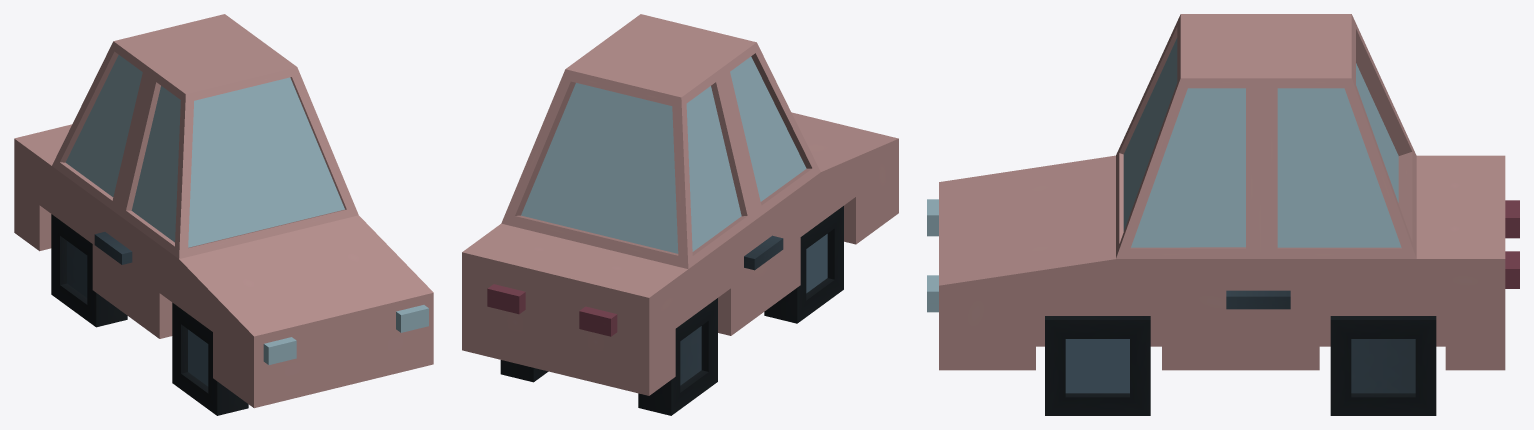
Rendered from Car_1.fbx.
3 views of the same model, side by side, from view 1: azimuth 30°, elevation 25°; view 2: azimuth 150°, elevation 25°; view 3: azimuth 270°, elevation 25° (orthographic). The views are drawn at different scales.
Parts seen in each view (by area): view 1: Car_1; view 2: Car_1; view 3: Car_1.
Part boxes in pixels (box(x1,y1,x2,y2)): Car_1: box(14, 14, 433, 415); Car_1: box(462, 14, 898, 415); Car_1: box(927, 14, 1519, 415).
Size of the model in its own units: 245 by 319 by 531.
